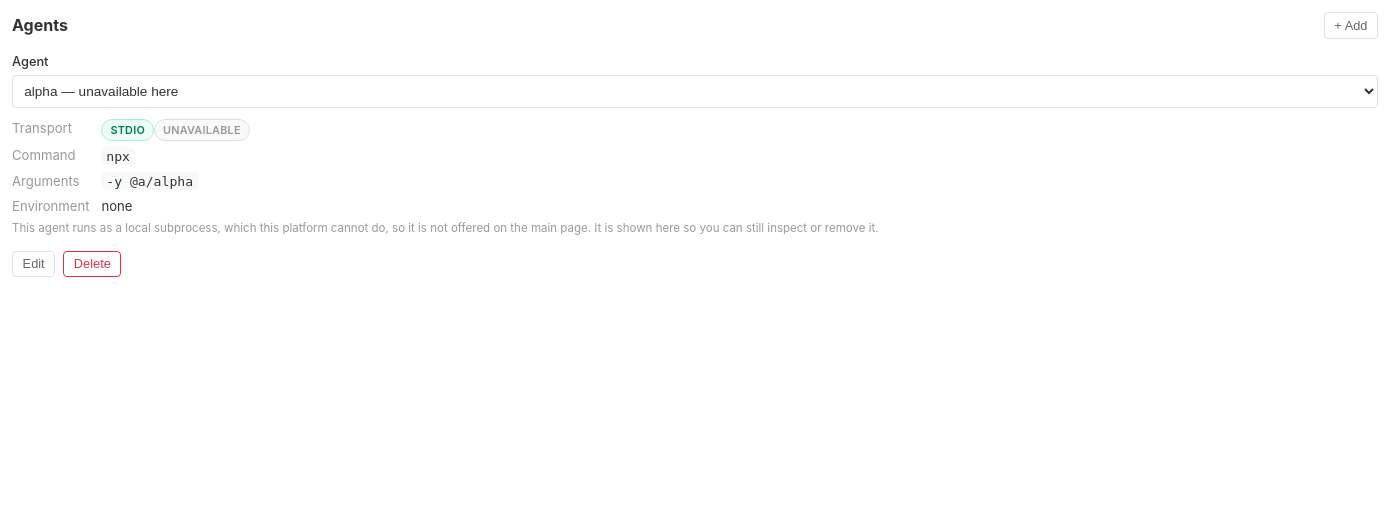
Test: SettingsAgents › returns to the read-only view on Cancel without writing anything
Click the button "Edit": (34, 264) [12,250,55,277]
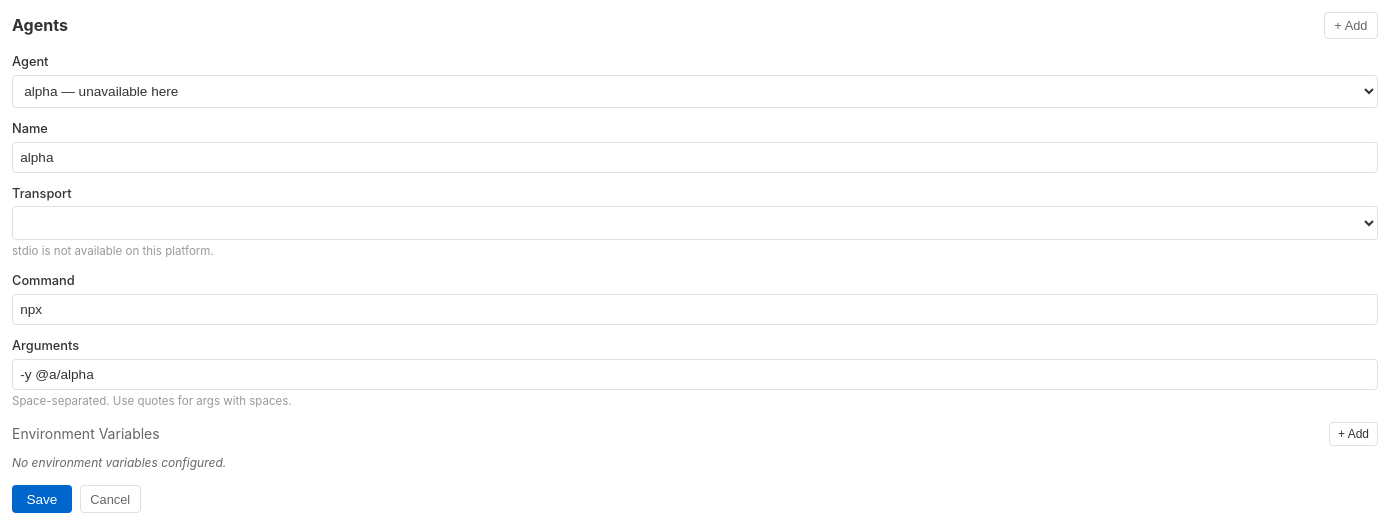
Click the button "Cancel": (110, 499) [80,485,141,513]
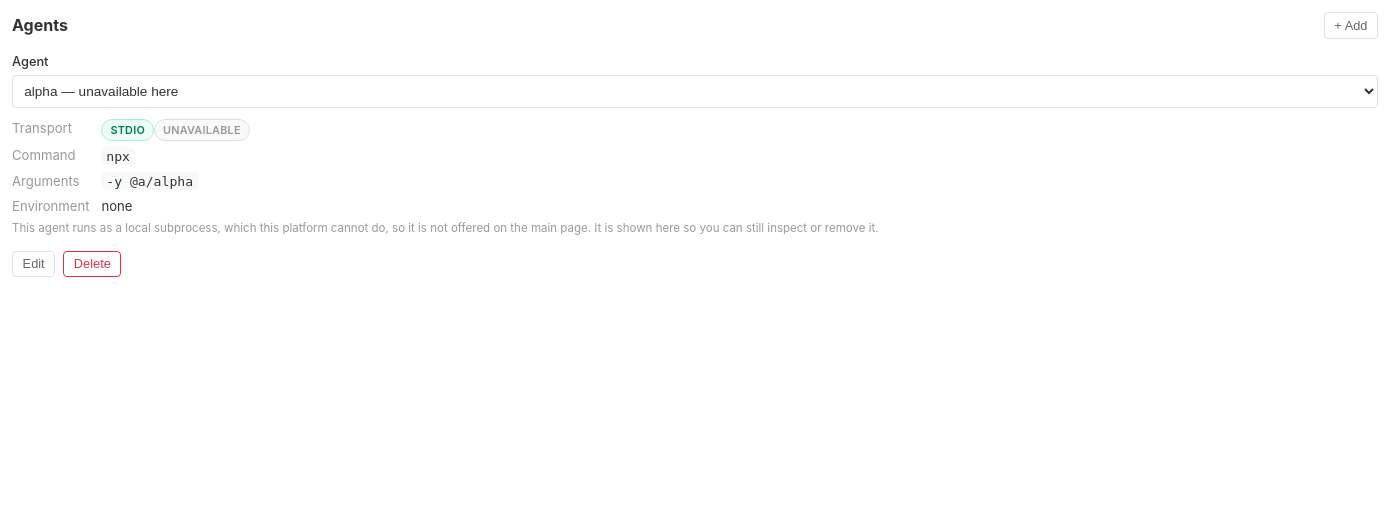
Expected: no fields are shown
